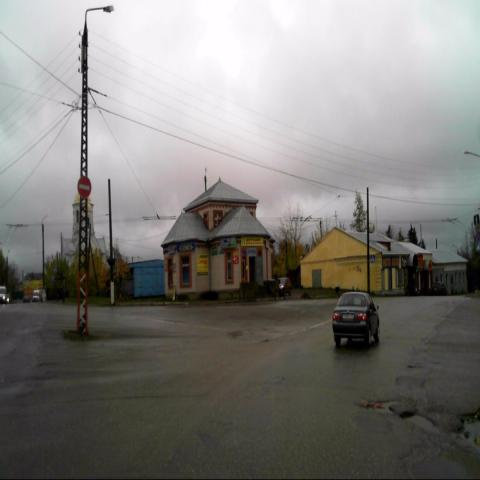3_1: (78, 175, 92, 198)
